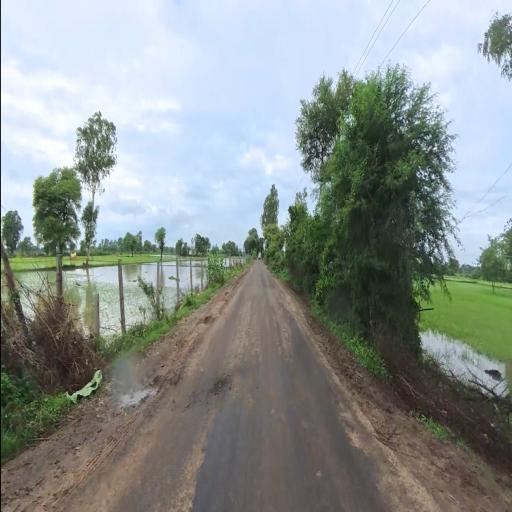alligator_crack: (191, 343, 240, 426)
